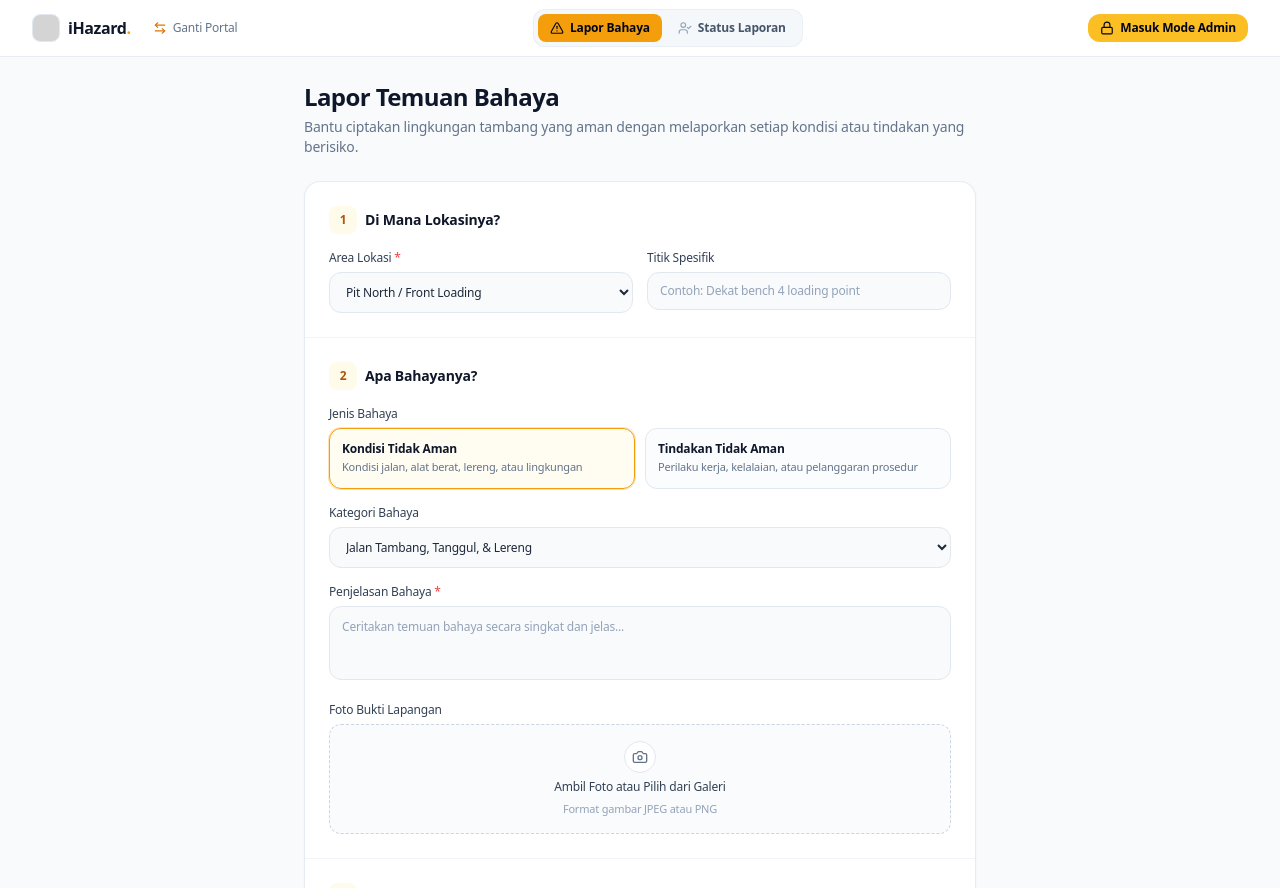
Test case: Main Application Navigation & Role Separation › navigates to PIN verification screen when worker requests admin access and hides default PIN button
Click the button "Masuk Mode Admin" at (1168, 28), box top-left (1088, 14), bottom-right (1248, 42)
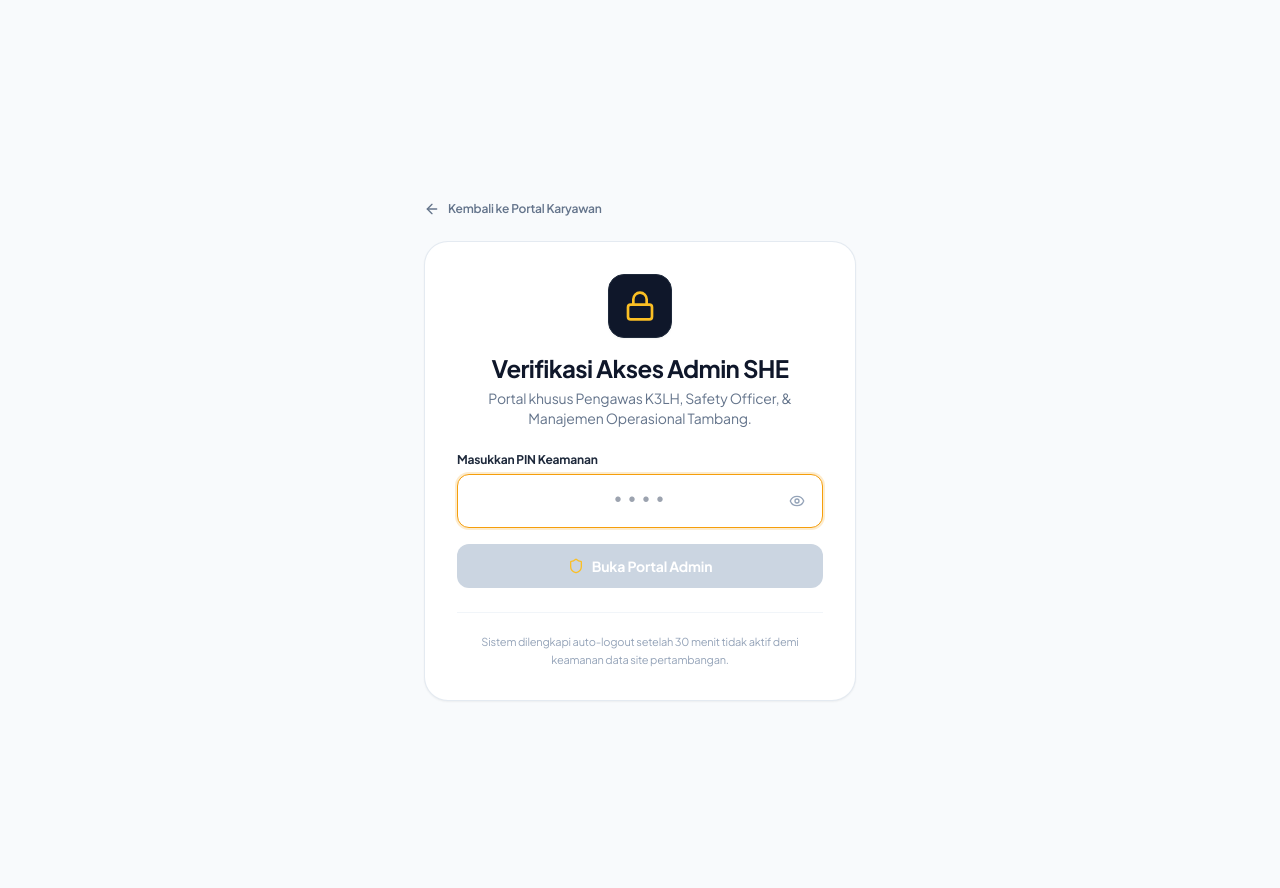
Now the heading "Verifikasi Akses Admin SHE" is shown, box top-left (492, 353), bottom-right (789, 383)
